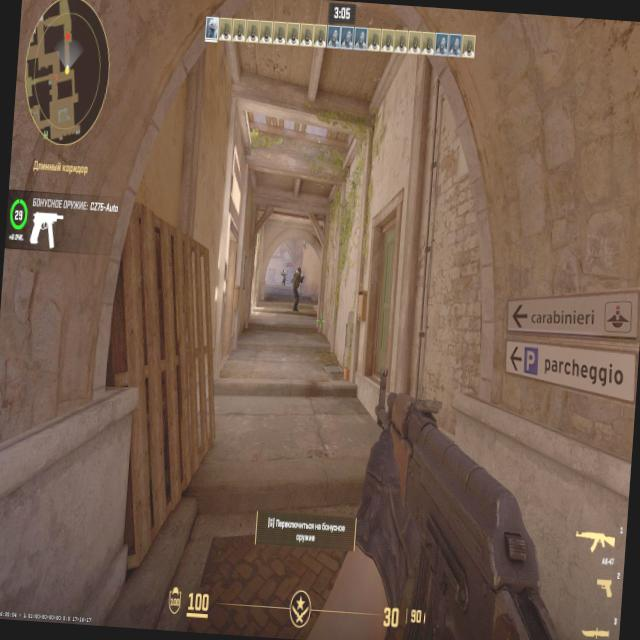CT: (292, 268, 302, 308), (281, 269, 285, 284)
CT_heat: (296, 268, 300, 274), (282, 270, 284, 272)
